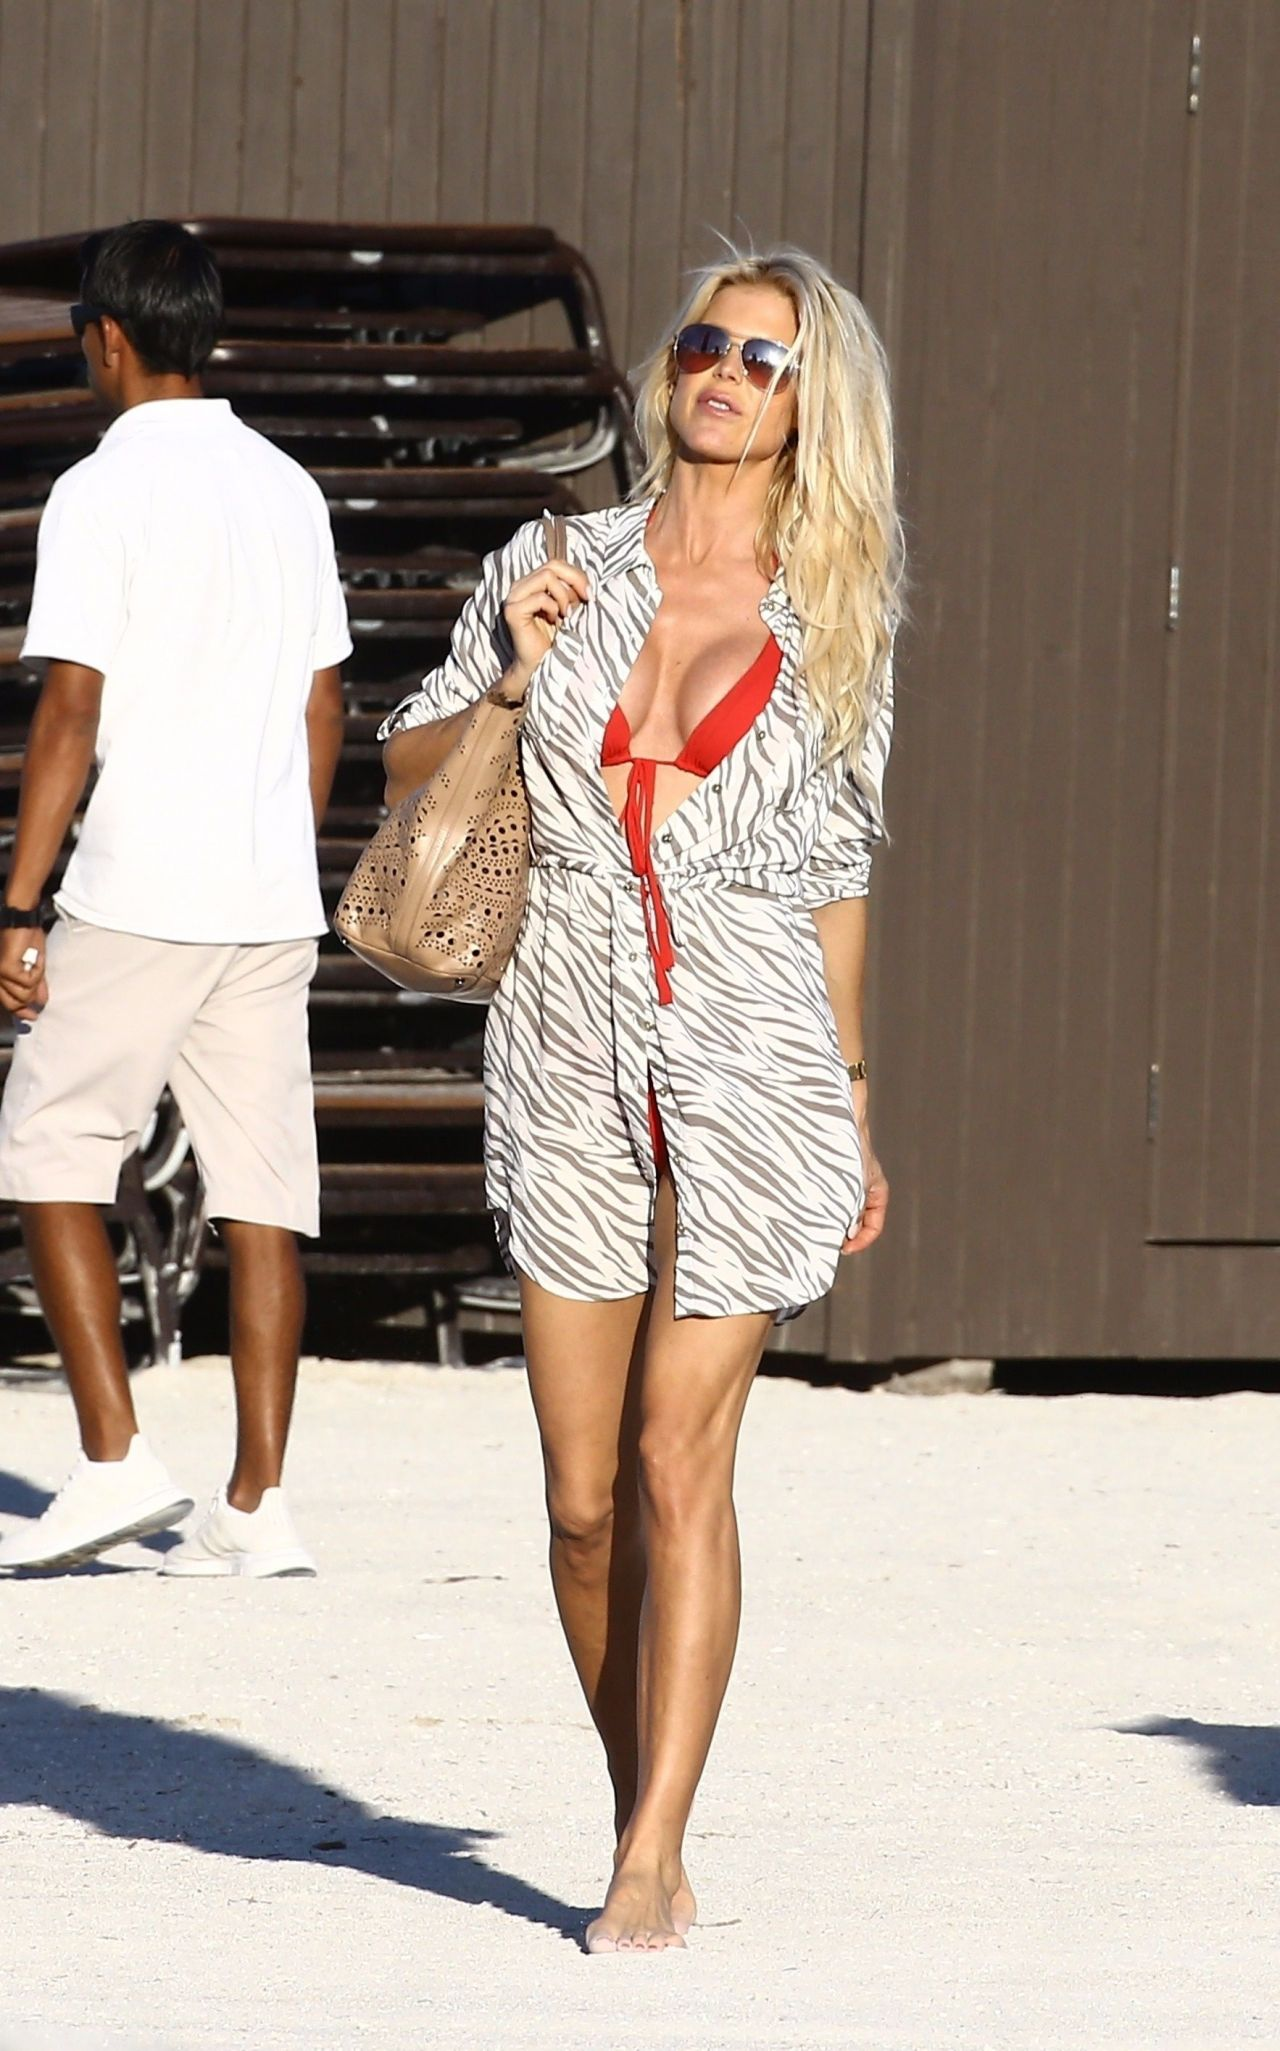Person: (365, 248, 902, 1972), (8, 222, 378, 1595)
